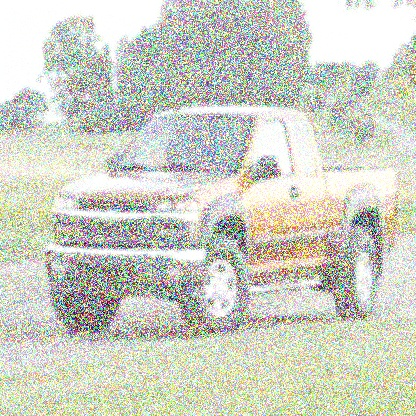Vehicle: (44, 107, 400, 338)
